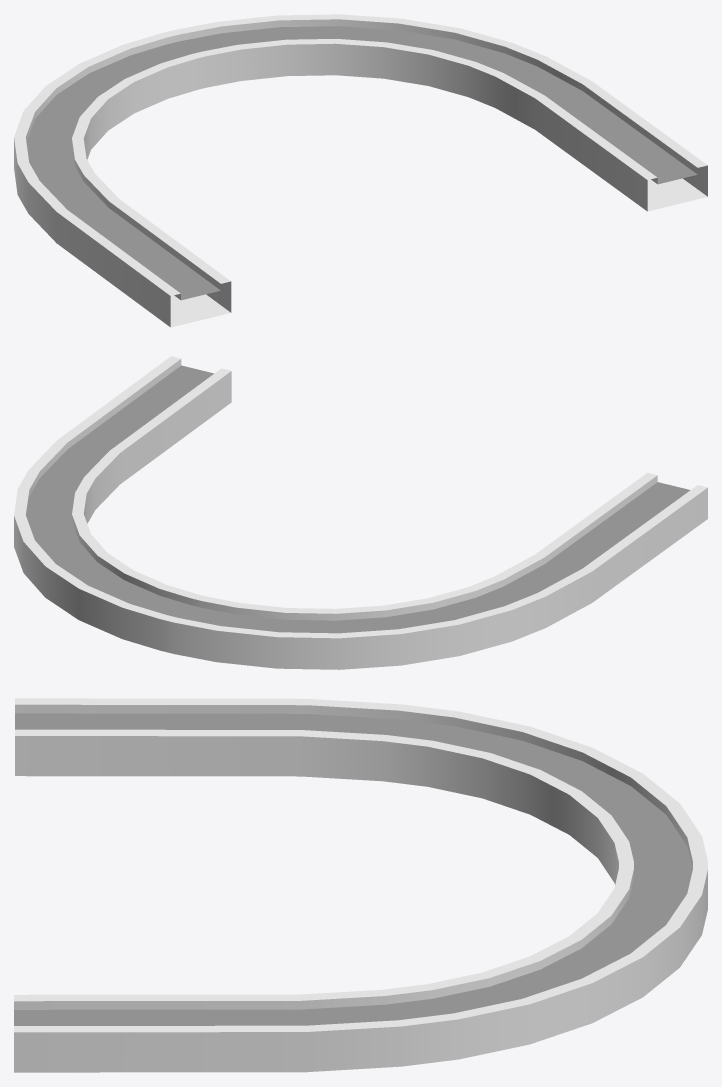
Rendered from rd_duga.fbx.
3 renders of one model, top to bottom at view 1: azimuth 30°, elevation 25°; view 2: azimuth 150°, elevation 25°; view 3: azimuth 270°, elevation 25°, orthographic. The views are drawn at different scales.
Parts seen in each view (by area): view 1: base.002; view 2: base.002; view 3: base.002.
Part boxes in pixels (left/top/right/bottom): base.002: left=14, top=14, right=707, bottom=327; base.002: left=14, top=356, right=707, bottom=669; base.002: left=14, top=698, right=707, bottom=1072.
Size of the model in its own units: 2167 by 121 by 1902.
